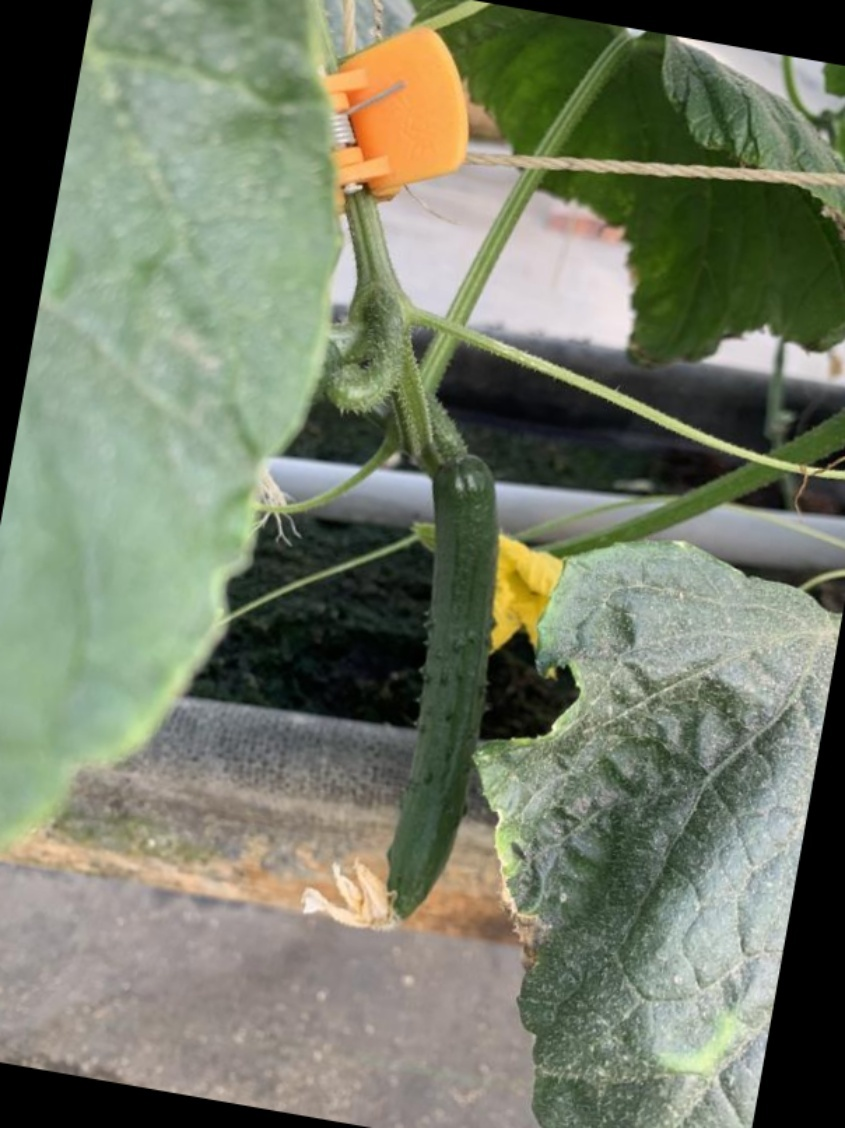mature: (375, 449, 511, 929)
